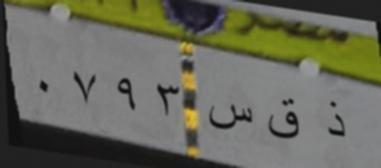0: (24, 70, 59, 100)
3: (149, 83, 186, 119)
7: (68, 64, 107, 107)
9: (115, 73, 142, 111)
qaaf: (264, 90, 302, 149)
seen: (204, 98, 256, 136)
zaal: (315, 96, 357, 145)
